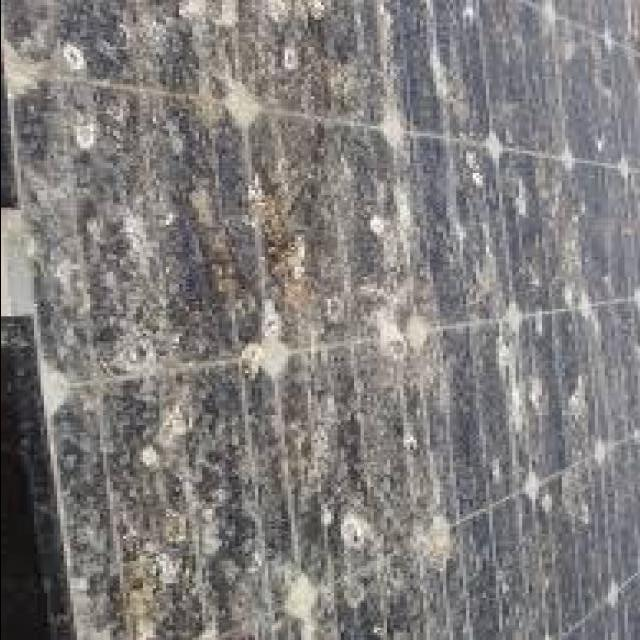soiled: (3, 2, 637, 640)
